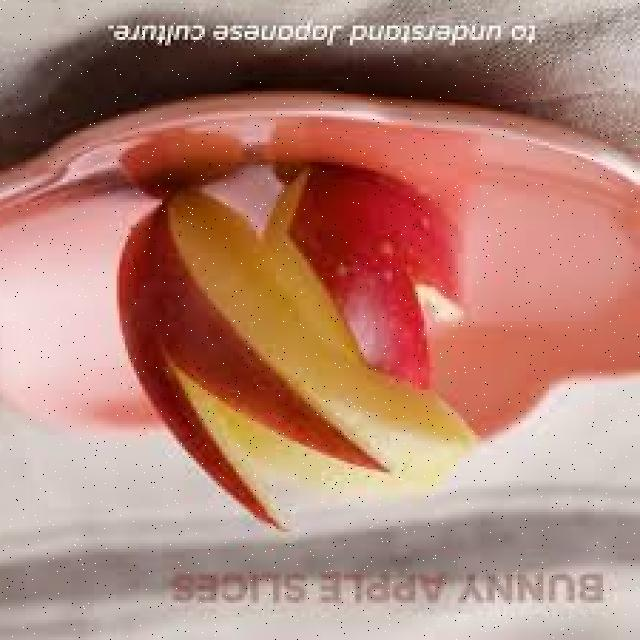Apple: (105, 192, 475, 532), (269, 161, 479, 387)
